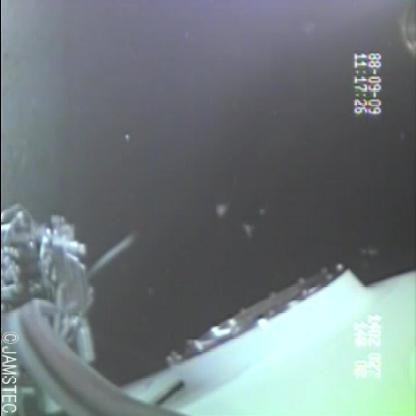Bio: (4, 273, 186, 415)
Rov: (2, 198, 100, 412)
